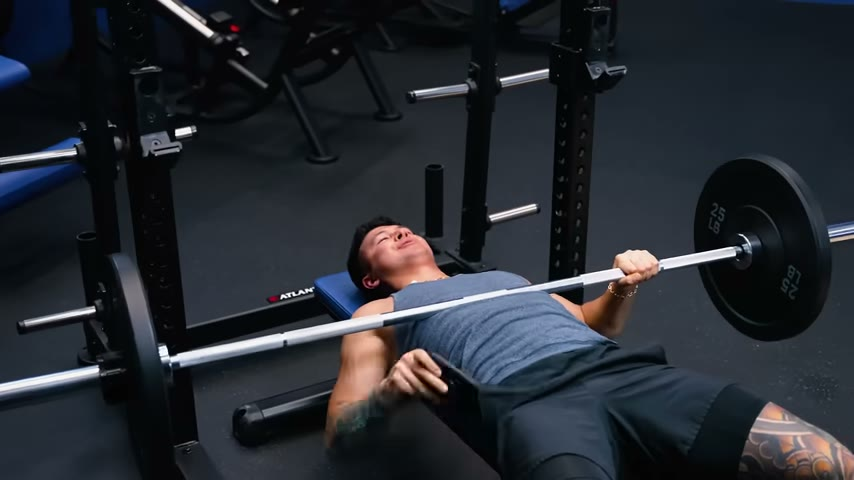barbell_plate_side: (0, 1, 180, 480), (685, 143, 854, 466)
